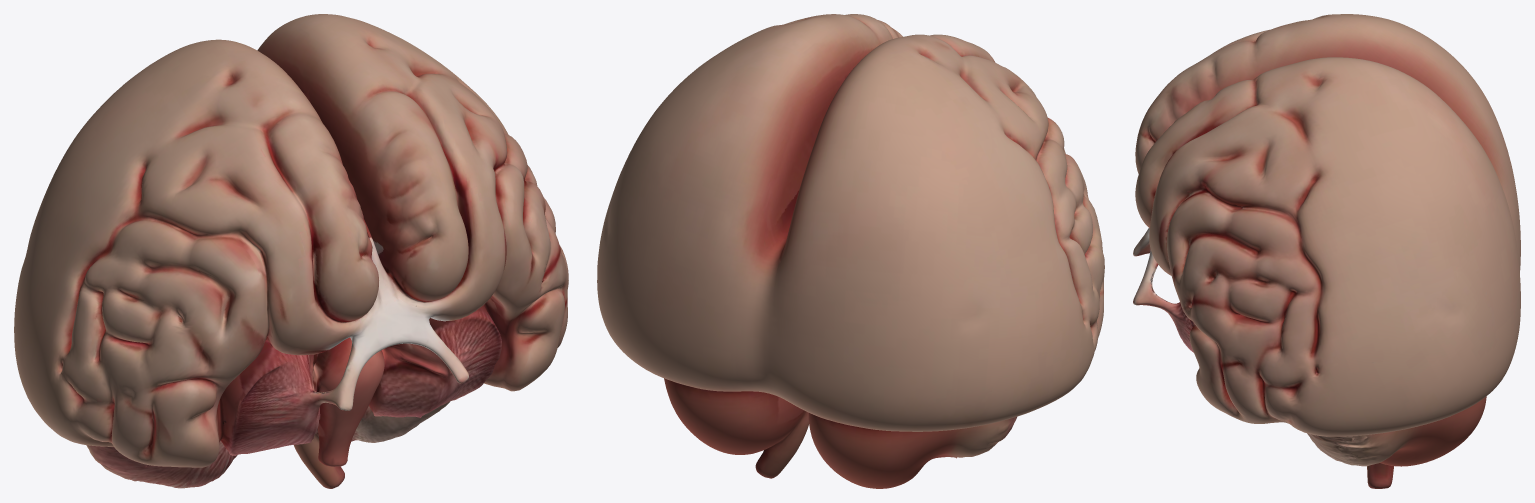
File: vet_v2_organ_cat_brain.glb
The picture shows the model from 3 angles, left to right: view 1: azimuth 30°, elevation 25°; view 2: azimuth 150°, elevation 25°; view 3: azimuth 270°, elevation 25°; orthographic projection. The views are drawn at different scales.
Parts seen in each view (by area): view 1: model; view 2: model; view 3: model.
Boxes of the visible parts, bbox=[...] form: model: bbox=[14, 14, 568, 488]; model: bbox=[597, 14, 1104, 488]; model: bbox=[1133, 14, 1520, 488].
Bounding box in the file's own units: 1.9 × 1.75 × 1.46.
1 material, 1 textured.
